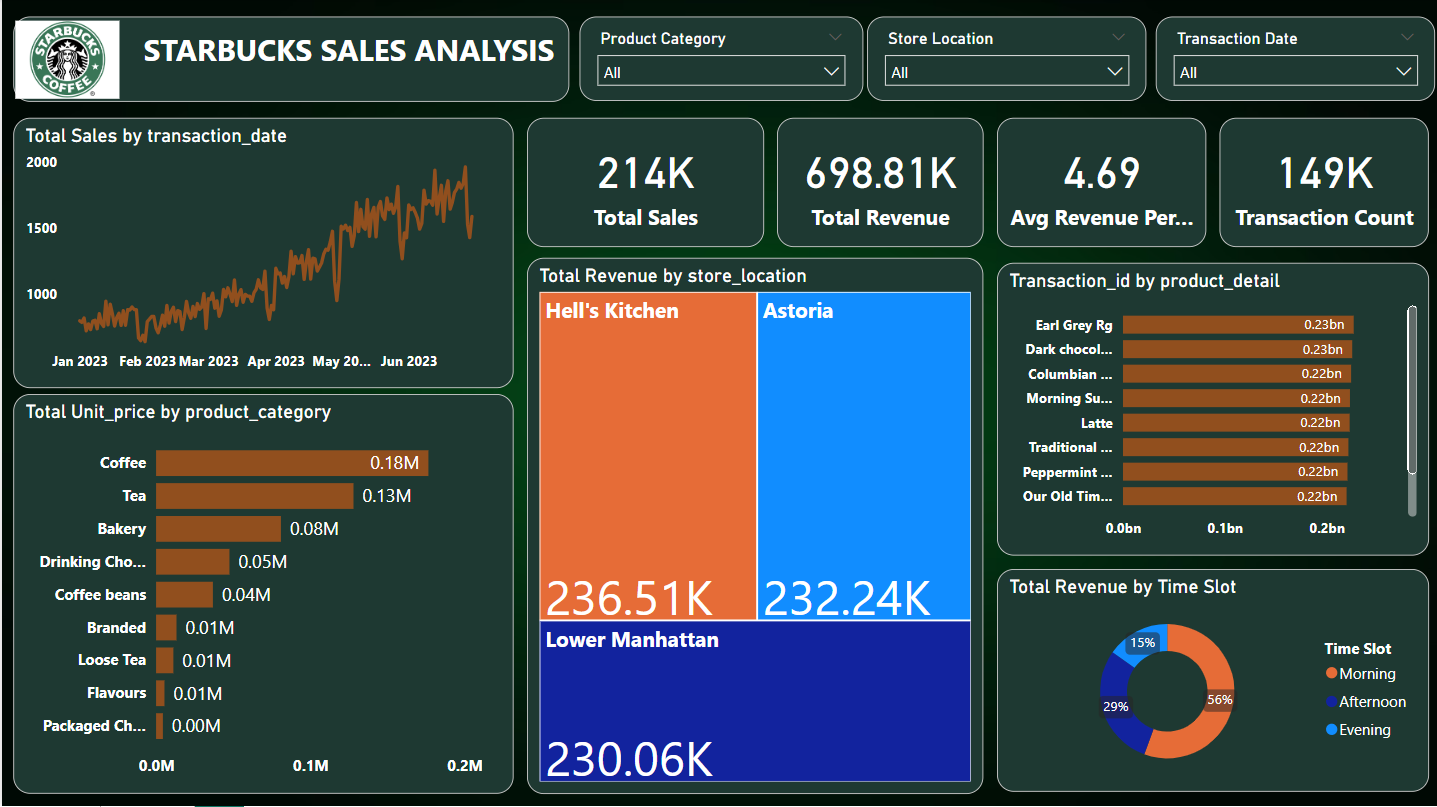

The page's visual inventory and layout, read from the dashboard file:
{"tool":"powerbi","page":{"name":"Page 1","canvas":[1280,720],"ordinal":0},"visuals":[{"type":"clusteredBarChart","title":"Total Unit_price by product_category","fields":{"Category":["project coffee shop sales.product_category"],"Y":["Sum(project coffee shop sales.unit_price)"]},"box":[10,351.8,445.3,356.2],"z":0},{"type":"textbox","box":[10,15.6,495.4,75.7],"z":1000},{"type":"image","box":[2.2,14.5,112.4,79],"z":2000},{"type":"card","fields":{"Values":["project coffee shop sales.Total Sales"]},"box":[467.5,105.5,211,115.5],"z":3000},{"type":"card","fields":{"Values":["project coffee shop sales.Total Revenue"]},"box":[689.9,105.5,183.9,115.5],"z":4000},{"type":"card","fields":{"Values":["project coffee shop sales.Avg Revenue per Transaction"]},"box":[886.6,105.5,186.7,115.5],"z":5000},{"type":"card","fields":{"Values":["project coffee shop sales.Transaction Count"]},"box":[1084.7,105.5,186.7,115.5],"z":6000},{"type":"slicer","fields":{"Values":["project coffee shop sales.product_category"]},"box":[514.1,16,252.8,74.8],"z":7000},{"type":"slicer","fields":{"Values":["project coffee shop sales.store_location"]},"box":[770.6,16,249.1,74.8],"z":8000},{"type":"slicer","fields":{"Values":["project coffee shop sales.transaction_date"]},"box":[1027,16,249.1,74.8],"z":9000},{"type":"lineChart","fields":{"Y":["project coffee shop sales.Total Sales"],"Category":["project coffee shop sales.transaction_date"]},"box":[10,105.8,445.3,240.4],"z":10000},{"type":"clusteredBarChart","title":"Transaction_id by product_detail","fields":{"Category":["project coffee shop sales.product_detail"],"Y":["Sum(project coffee shop sales.transaction_id)"]},"box":[886.6,235.2,384.9,260.8],"z":11000},{"type":"donutChart","fields":{"Category":["project coffee shop sales.Time Slot"],"Y":["project coffee shop sales.Total Revenue"]},"box":[886.6,507.4,384.9,198.1],"z":12000},{"type":"treemap","fields":{"Group":["project coffee shop sales.store_location"],"Values":["project coffee shop sales.Total Revenue"]},"box":[467.5,230.9,406.2,477.5],"z":13000}]}

Visuals, with their boxes in screenshot pixels (x1, y1, x2, y2), scaled from the page's 1280x720 canvas onto the 1437x807 screenshot:
"Total Unit_price by product_category" clusteredBarChart: x1=11 y1=394 x2=511 y2=794
textbox: x1=11 y1=17 x2=567 y2=102
image: x1=2 y1=16 x2=129 y2=105
card - project coffee shop sales.Total Sales: x1=525 y1=118 x2=762 y2=248
card - project coffee shop sales.Total Revenue: x1=775 y1=118 x2=981 y2=248
card - project coffee shop sales.Avg Revenue per Transaction: x1=995 y1=118 x2=1205 y2=248
card - project coffee shop sales.Transaction Count: x1=1218 y1=118 x2=1427 y2=248
slicer - project coffee shop sales.product_category: x1=577 y1=18 x2=861 y2=102
slicer - project coffee shop sales.store_location: x1=865 y1=18 x2=1145 y2=102
slicer - project coffee shop sales.transaction_date: x1=1153 y1=18 x2=1433 y2=102
lineChart - project coffee shop sales.Total Sales x project coffee shop sales.transaction_date: x1=11 y1=119 x2=511 y2=388
"Transaction_id by product_detail" clusteredBarChart: x1=995 y1=264 x2=1427 y2=556
donutChart - project coffee shop sales.Time Slot x project coffee shop sales.Total Revenue: x1=995 y1=569 x2=1427 y2=791
treemap - project coffee shop sales.store_location x project coffee shop sales.Total Revenue: x1=525 y1=259 x2=981 y2=794
